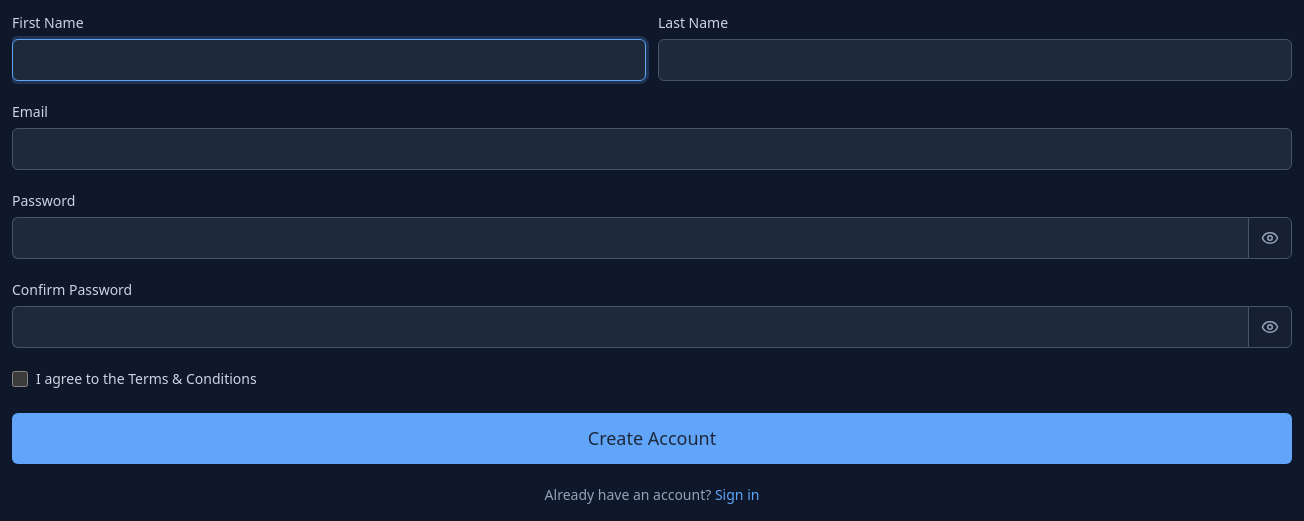
Test: RegisterForm › successful submission › shows loading state during submission
The width and height of the screenshot is (1304, 521).
Type "test@example.com" into the field labelled "Email" at (652, 149), box [12,128,1292,170]
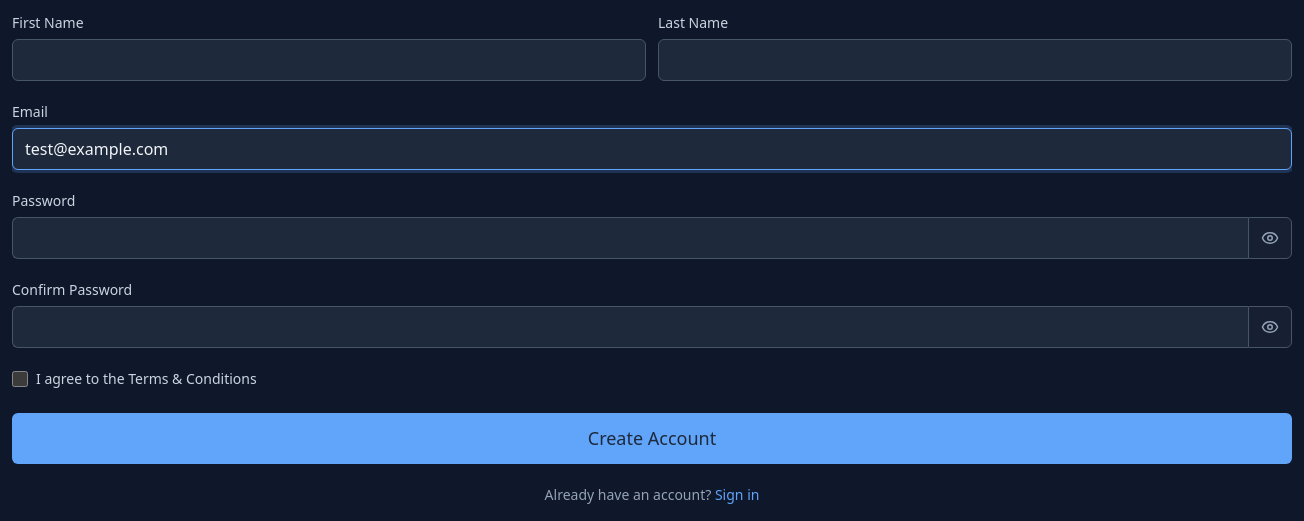
Type "Password1" into the password field labelled "Password" at (630, 238), box [12,217,1248,259]
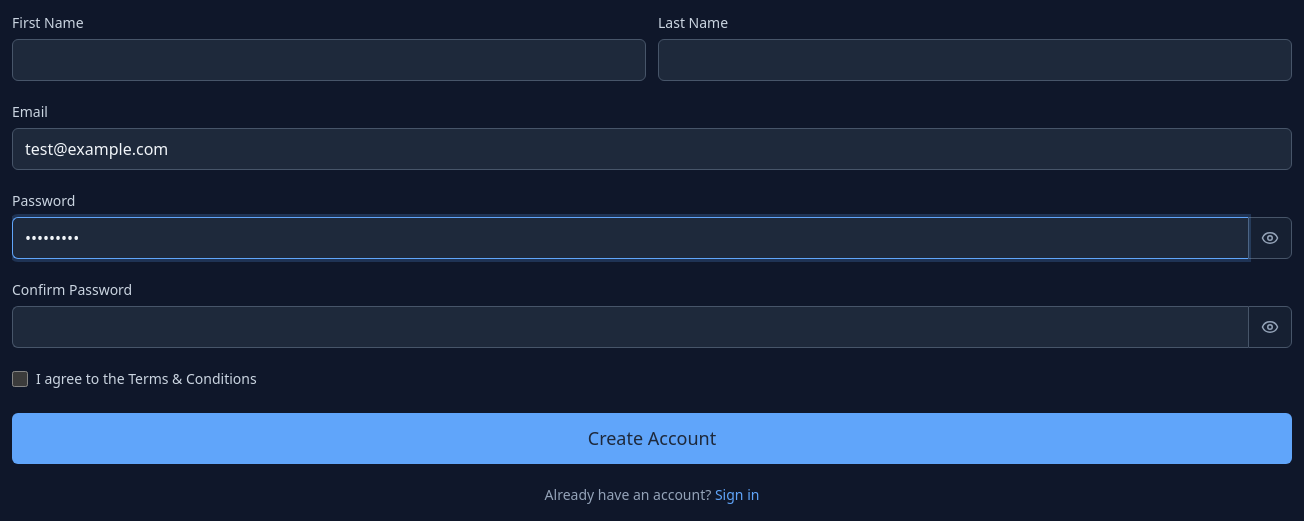
Type "Password1" into the password field labelled "Confirm Password" at (630, 327), box [12,306,1248,348]
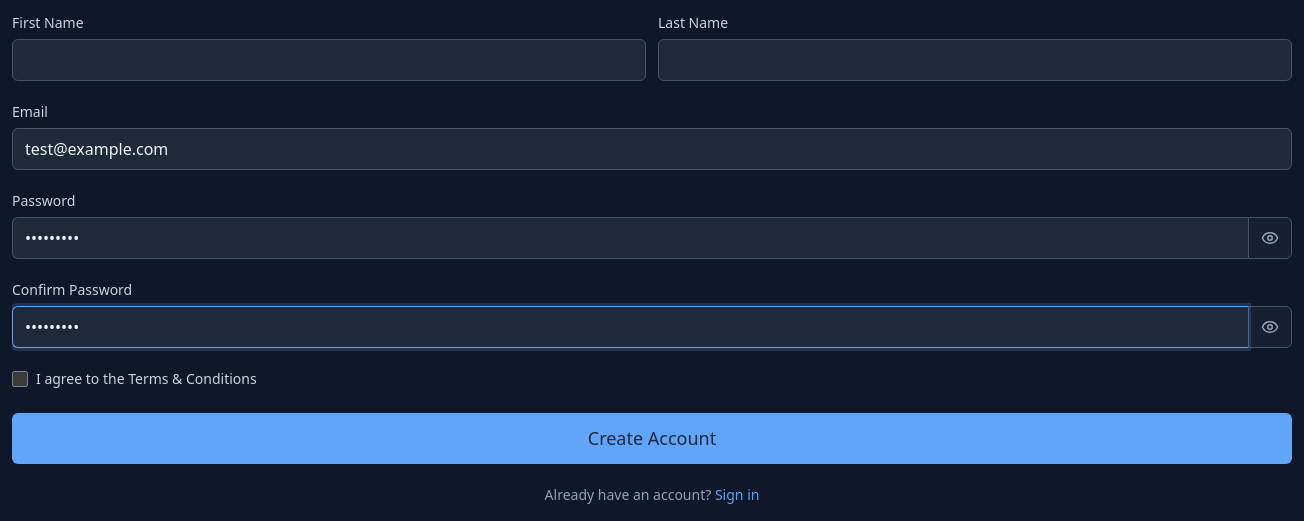
Click the checkbox labelled "I agree to the Terms & Conditions" at (20, 378), box [12,370,28,386]
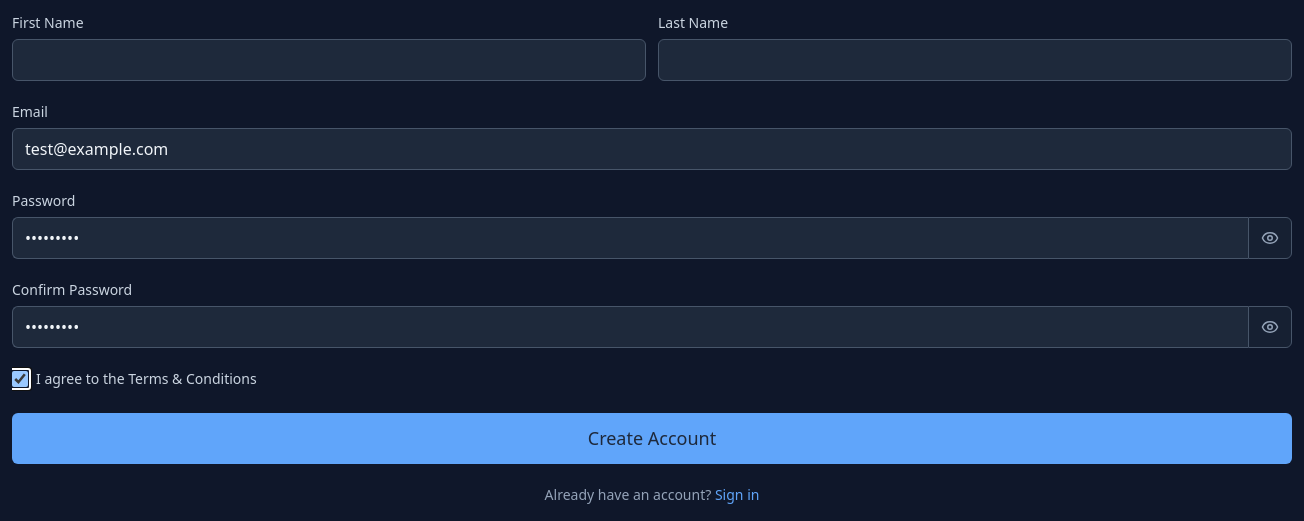
Click the button "Create Account" at (652, 438), box [12,413,1292,464]
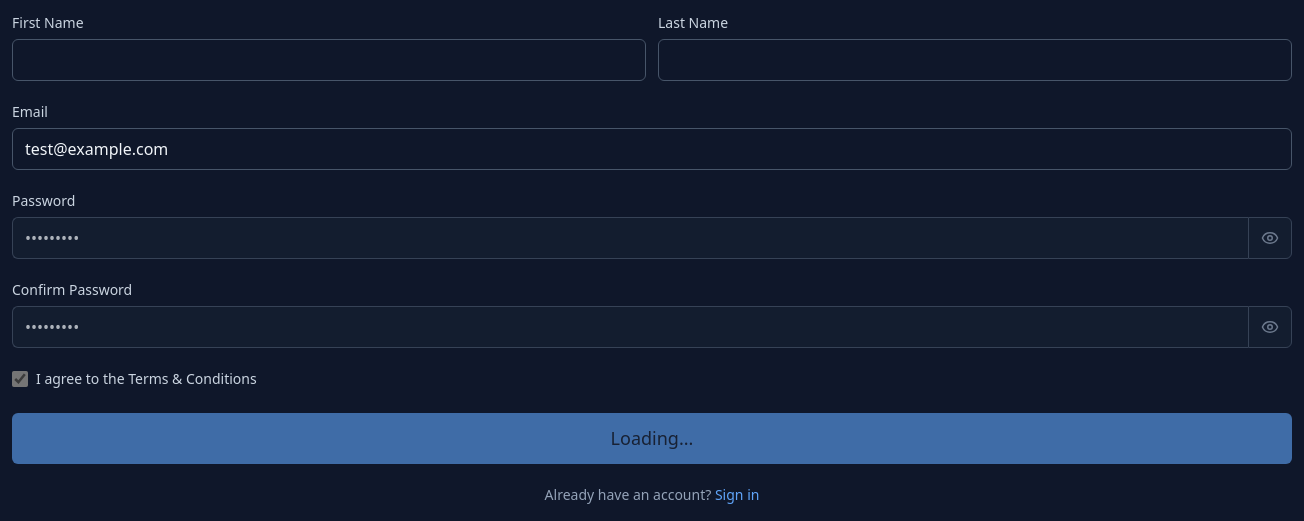
Expected: the button "Loading..." is disabled, [12,413,1292,464]
